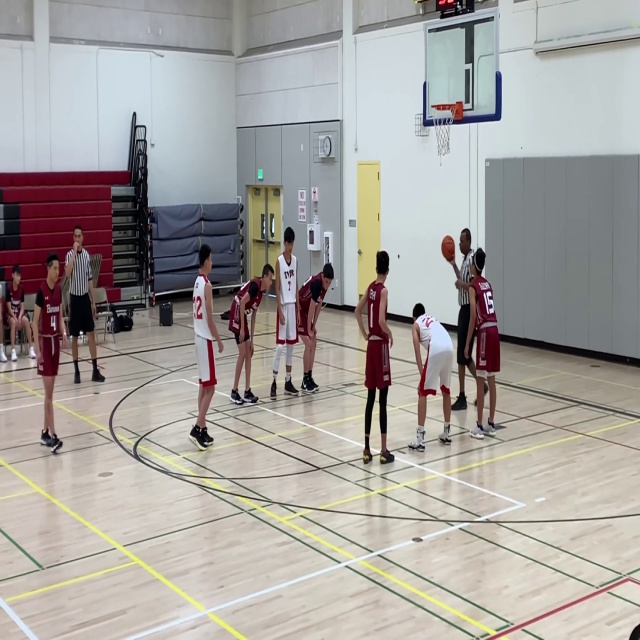Basketball: (441, 236, 455, 261)
